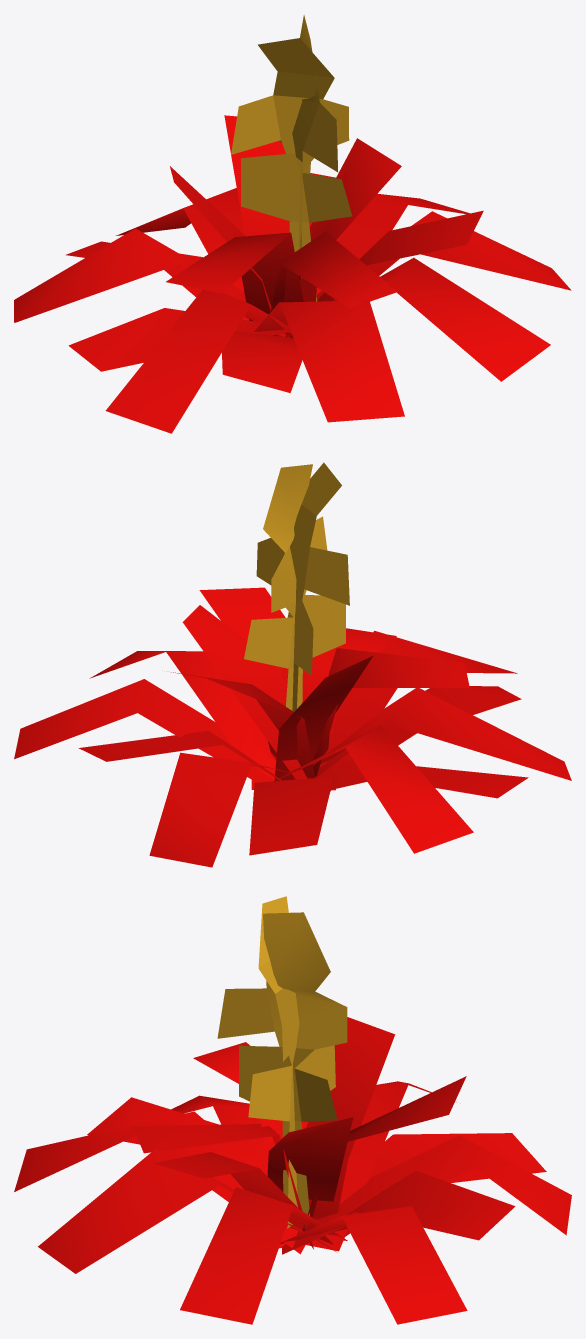
File: Fiore_rosso.fbx
The picture shows the model from 3 angles, top to bottom: view 1: azimuth 30°, elevation 25°; view 2: azimuth 150°, elevation 25°; view 3: azimuth 270°, elevation 25°; orthographic projection. The views are drawn at different scales.
Visible parts, largest first — view 1: Fiore.003; view 2: Fiore.003; view 3: Fiore.003.
Boxes of the visible parts, <box> form: Fiore.003: <box>14,15,571,433</box>; Fiore.003: <box>14,462,571,867</box>; Fiore.003: <box>14,896,571,1324</box>.
Bounding box in the file's own units: 1567 × 1025 × 1552.
